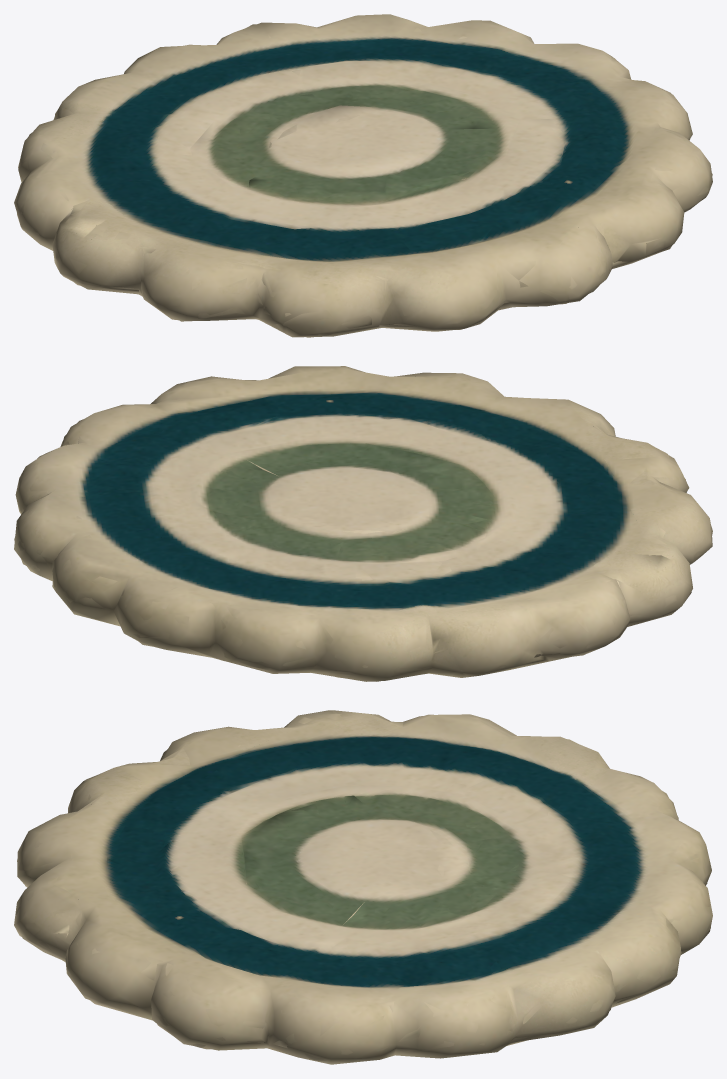
File: round_rug.glb
3 views of the same model, one above another, from view 1: azimuth 30°, elevation 25°; view 2: azimuth 150°, elevation 25°; view 3: azimuth 270°, elevation 25° (orthographic). The views are drawn at different scales.
Parts seen in each view (by area): view 1: round_rug; view 2: round_rug; view 3: round_rug.
Part boxes in pixels (box(x1,y1,x2,y2)): round_rug: box(14, 14, 712, 337); round_rug: box(14, 366, 712, 681); round_rug: box(14, 710, 712, 1064).
Size of the model in its own units: 0.9146 by 0.0839 by 0.8445.
1 material, 1 textured.
